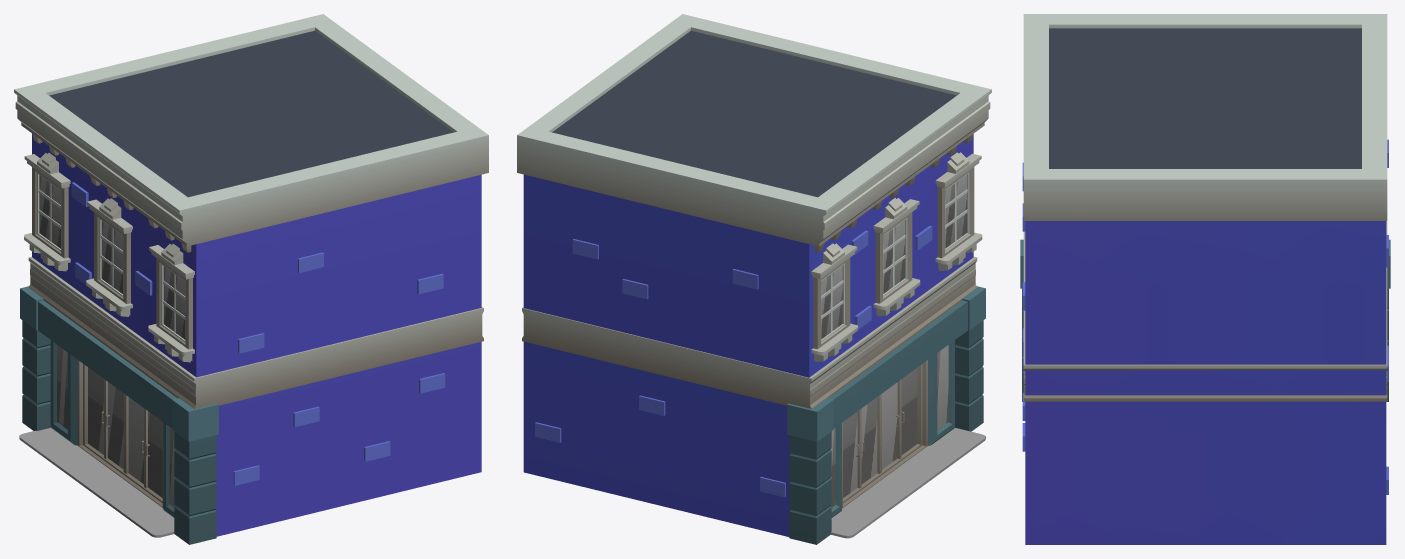
Rendered from Building_21_4_G.fbx.
The picture shows the model from 3 angles, left to right: view 1: azimuth 30°, elevation 25°; view 2: azimuth 150°, elevation 25°; view 3: azimuth 270°, elevation 25°; orthographic projection. The views are drawn at different scales.
Visible parts, largest first — view 1: Building_21_4_G; view 2: Building_21_4_G; view 3: Building_21_4_G.
Boxes of the visible parts, <box> form: Building_21_4_G: <box>14,14,488,544</box>; Building_21_4_G: <box>517,14,991,544</box>; Building_21_4_G: <box>1020,14,1390,544</box>.
Size of the model in its own units: 779 by 782 by 713.
